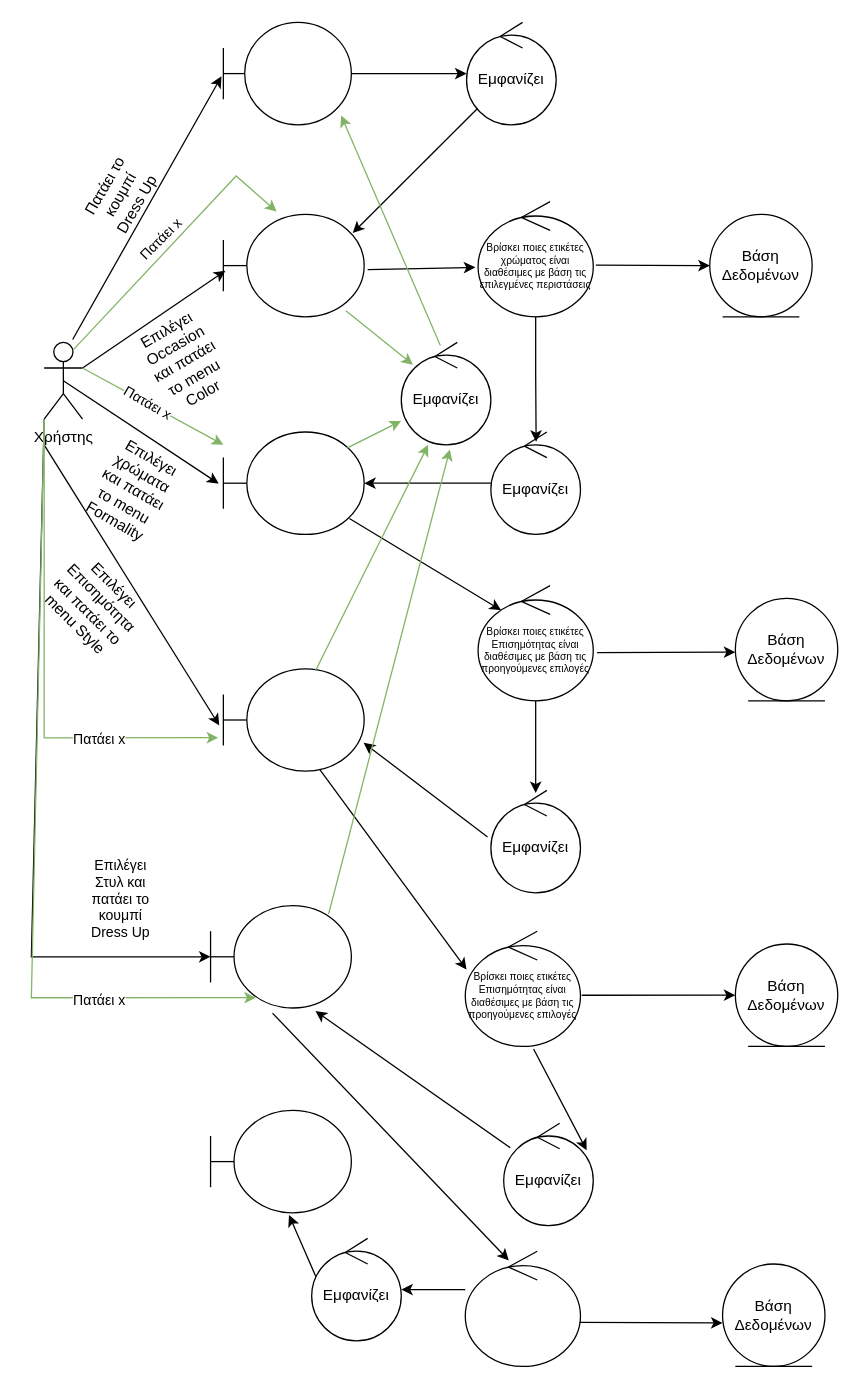
Image size: 860x1389. Some labels were removed from this diagram. The centre of each missing label's shape, as x and y in pixels:
"Αρχική Σελίδα Χρήστη" belongs at point (286, 73).
"Βρίσκει ποια σύνολα αντιστοιχούν στις επιλογές" belongs at point (522, 1308).
"Σελίδα Εμφάνισης Αποτελεσμάτων Αναζήτησης" belongs at point (280, 1161).
"Σελίδα Φιλτραρίσματος Αναζήτησης (Επισημότητα)" belongs at point (293, 719).
"Σελίδα Φιλτραρίσματος Αναζήτησης (Περίσταση)" belongs at point (293, 265).
"Σελίδα Φιλτραρίσματος Αναζήτησης (Στυλ)" belongs at point (280, 956).
"Σελίδα Φιλτραρίσματος Αναζήτησης (Χρώμα)" belongs at point (293, 482).
